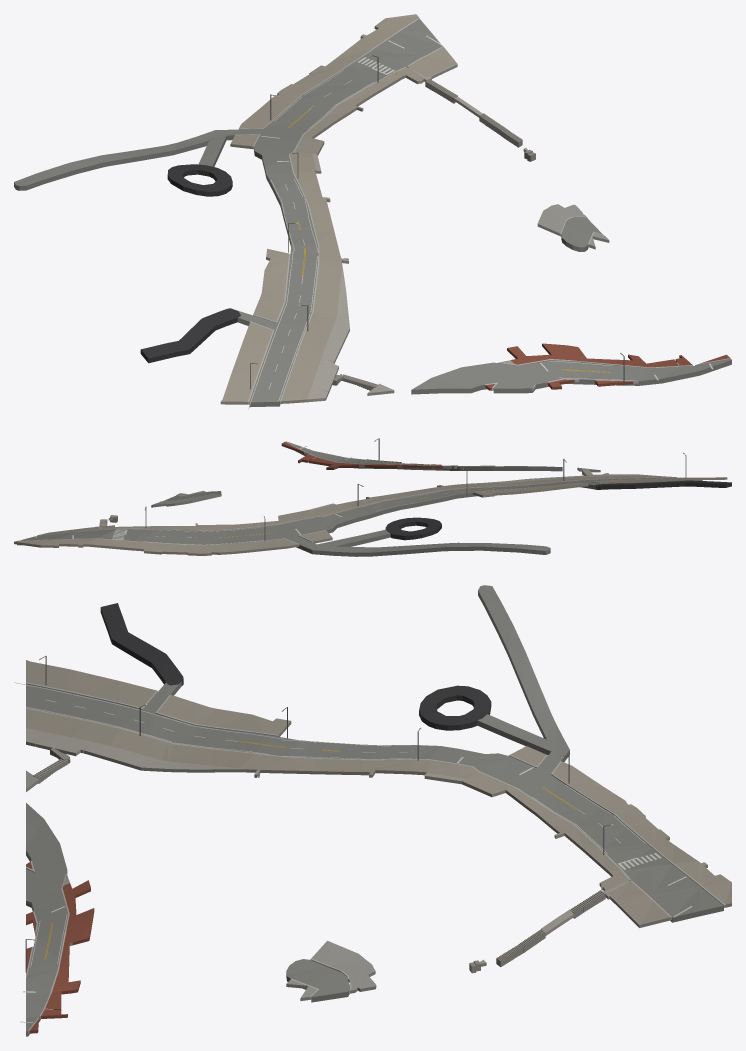
The model's file is 18-218881-118952.6bafc79b.glb.
3 views of the same model, one above another, from view 1: azimuth 30°, elevation 25°; view 2: azimuth 150°, elevation 25°; view 3: azimuth 270°, elevation 25° (orthographic). The views are drawn at different scales.
Bounding box in the file's own units: 148 × 40.16 × 148.
